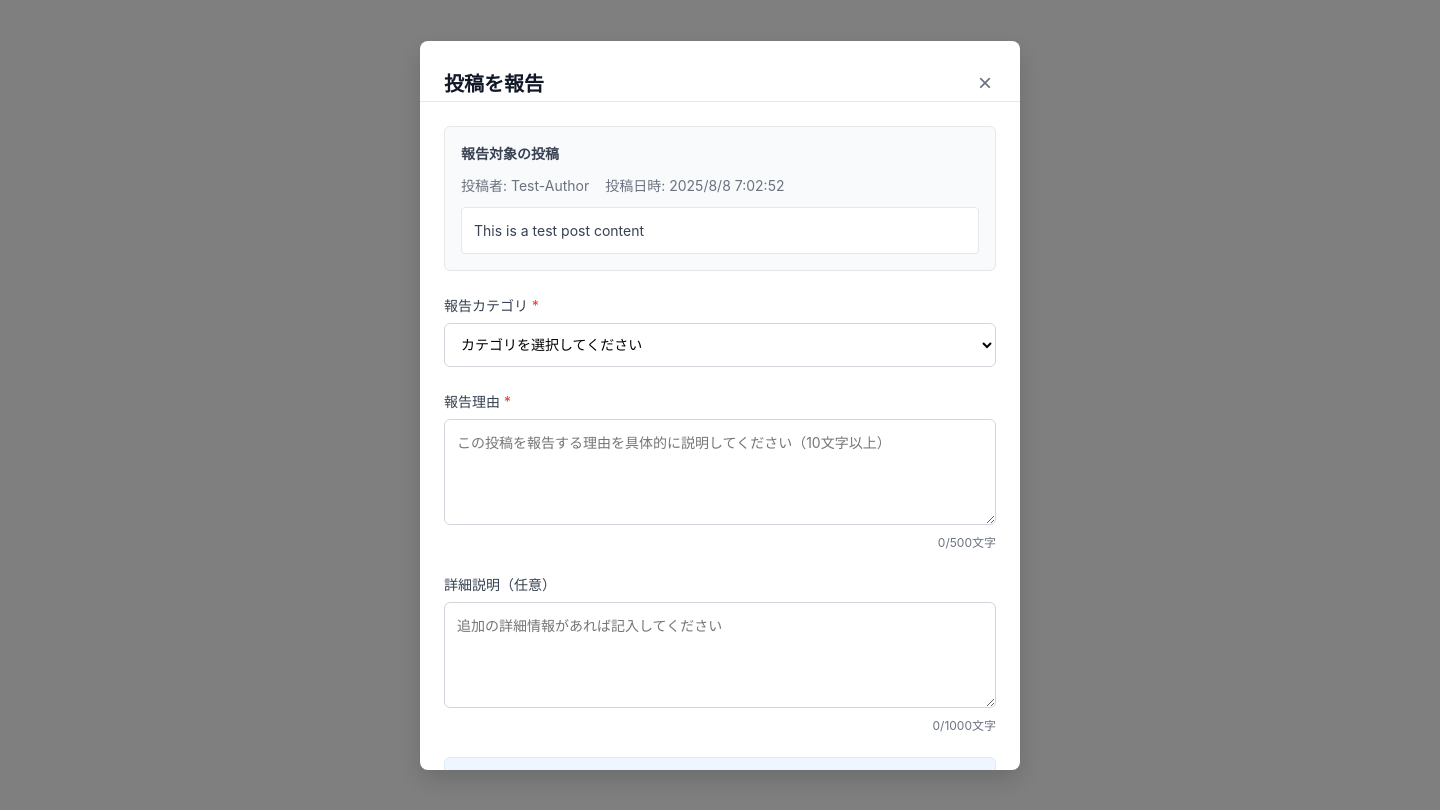
it: PostReportDialog › shows character count for reason field
Type "Test reason" into the text box labelled "報告理由 *" at {"x": 720, "y": 472}, box [444,418,996,524]
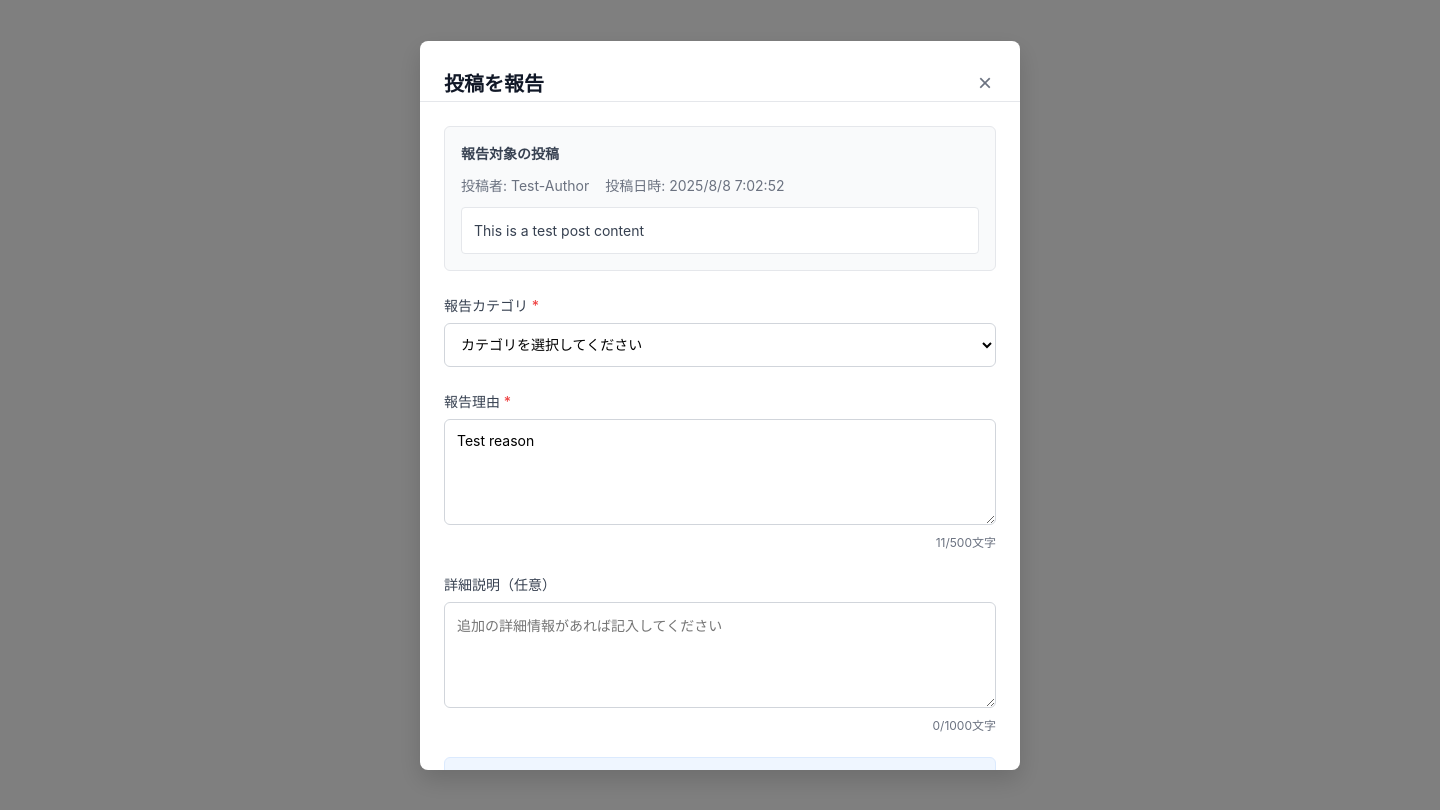
expect the text "11/500文字" is shown: met, box [936,534,996,550]
